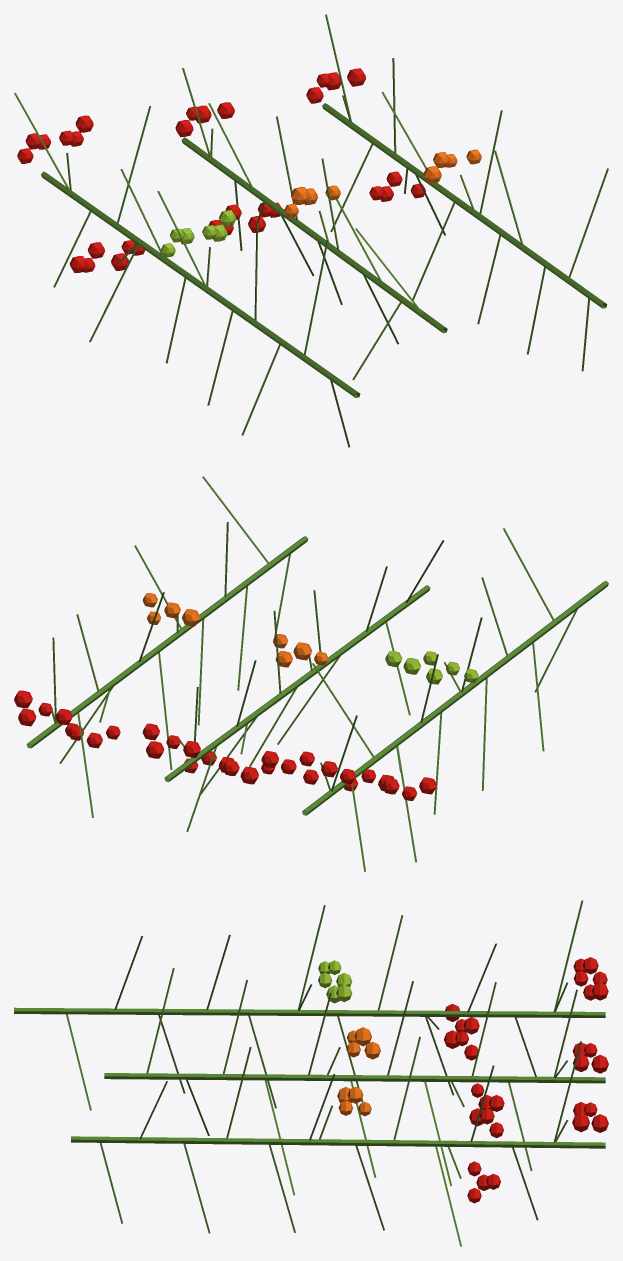
The model's file is r16c4_stems.obj.
3 renders of one model, top to bottom at view 1: azimuth 30°, elevation 25°; view 2: azimuth 150°, elevation 25°; view 3: azimuth 270°, elevation 25°, orthographic. The views are drawn at different scales.
Visible parts, largest first — view 1: r16c4_stems; view 2: r16c4_stems; view 3: r16c4_stems.
Boxes of the visible parts, x1=… form: r16c4_stems: x1=14, y1=14, x2=608, y2=447; r16c4_stems: x1=14, y1=476, x2=608, y2=871; r16c4_stems: x1=14, y1=900, x2=608, y2=1246.
Size of the model in its own units: 1.57 by 0.7991 by 2.19.
